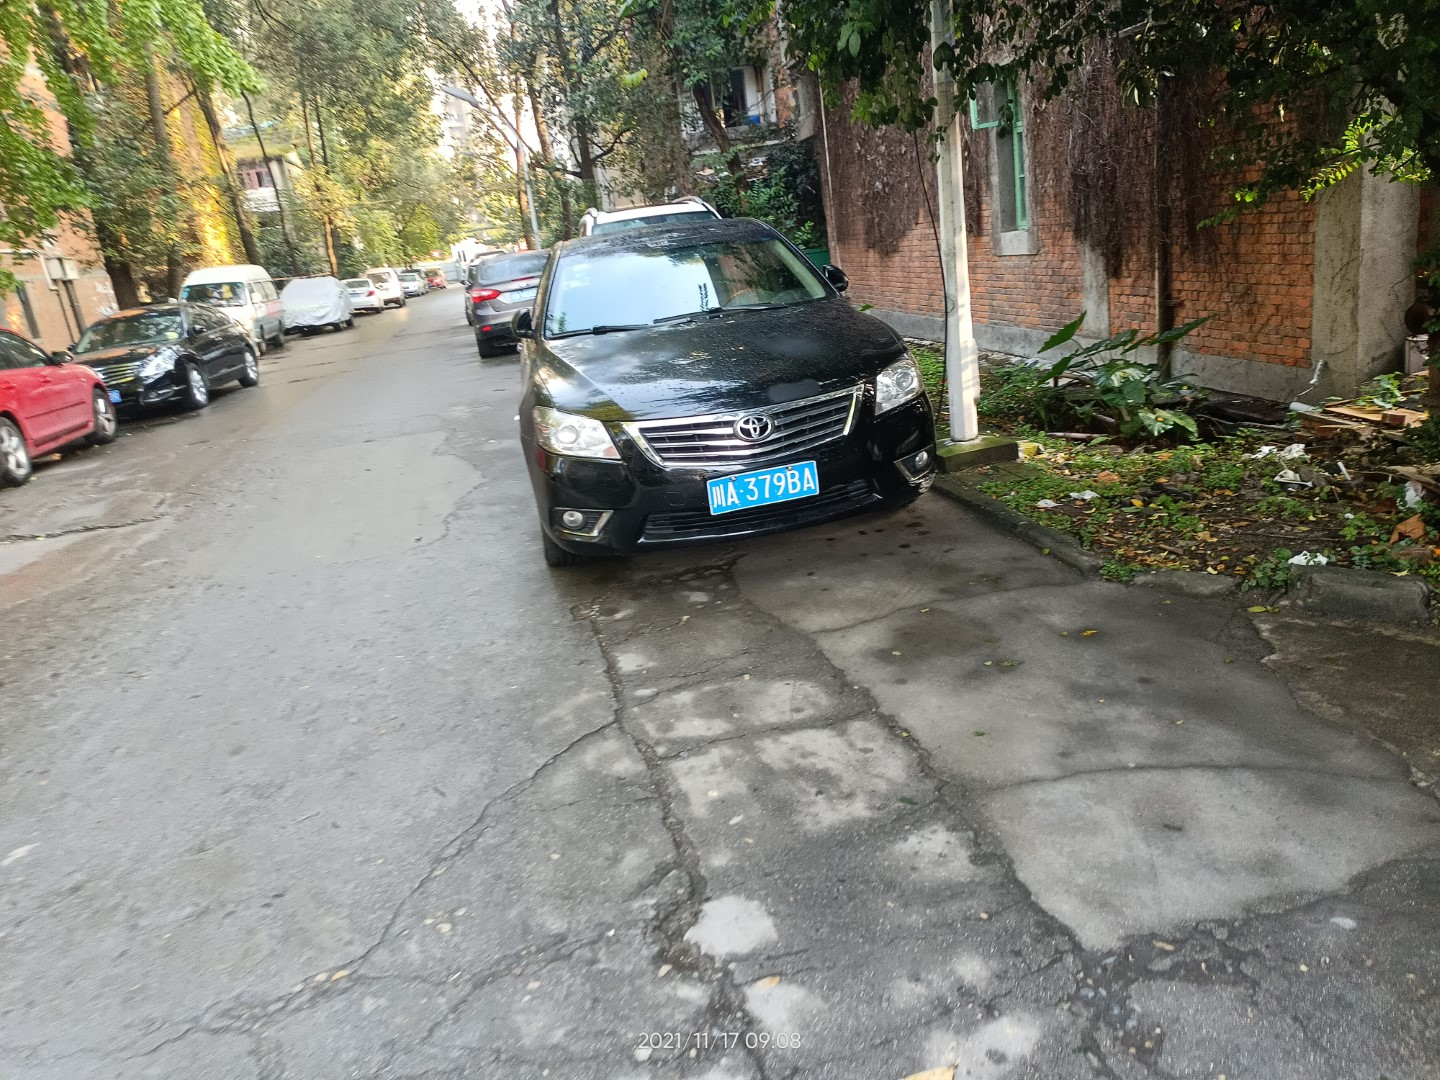plate: (708, 459, 818, 515)
